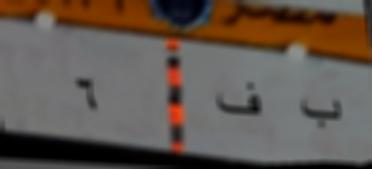6: (70, 67, 111, 118)
baa: (297, 94, 346, 131)
faa: (210, 72, 268, 124)
